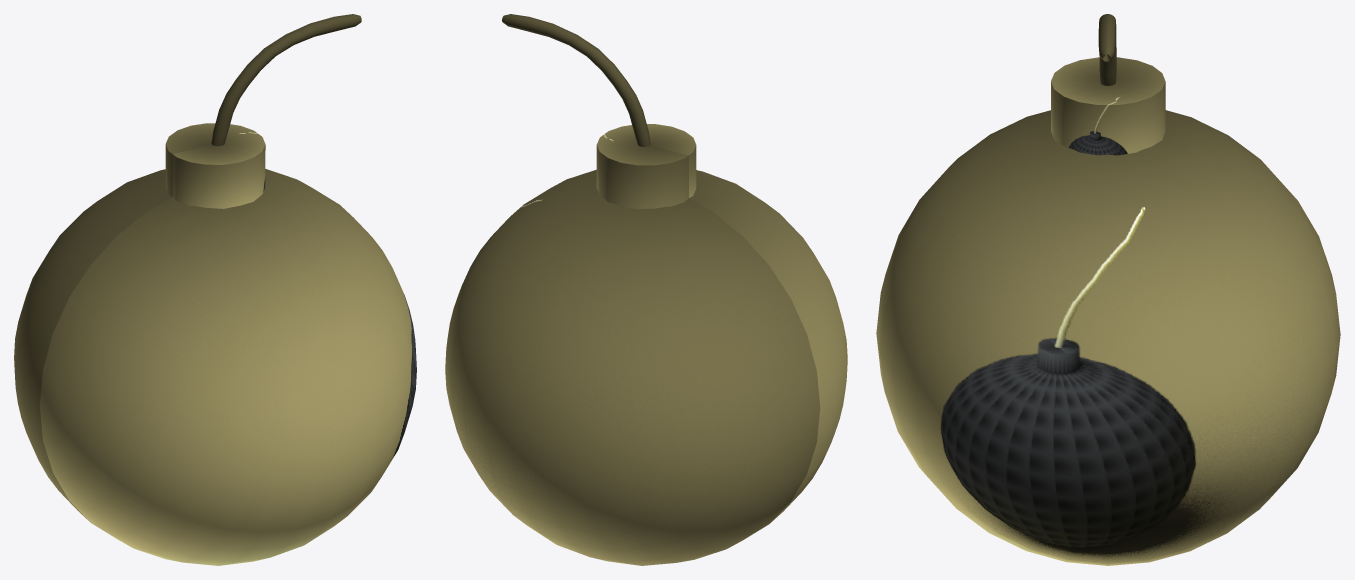
Rendered from bomb2.obj.
3 views of the same model, side by side, from view 1: azimuth 30°, elevation 25°; view 2: azimuth 150°, elevation 25°; view 3: azimuth 270°, elevation 25° (orthographic). The views are drawn at different scales.
Visible parts, largest first — view 1: Handle52; view 2: Handle52; view 3: Handle52.
Part boxes in pixels (left/top/right/bottom): Handle52: left=14, top=14, right=416, bottom=565; Handle52: left=445, top=14, right=847, bottom=565; Handle52: left=876, top=14, right=1340, bottom=565.
Size of the model in its own units: 6.2 by 8.48 by 6.2.
